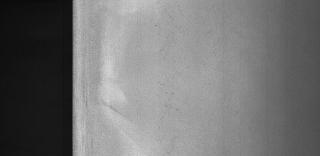silk spot: (140, 2, 202, 156)
